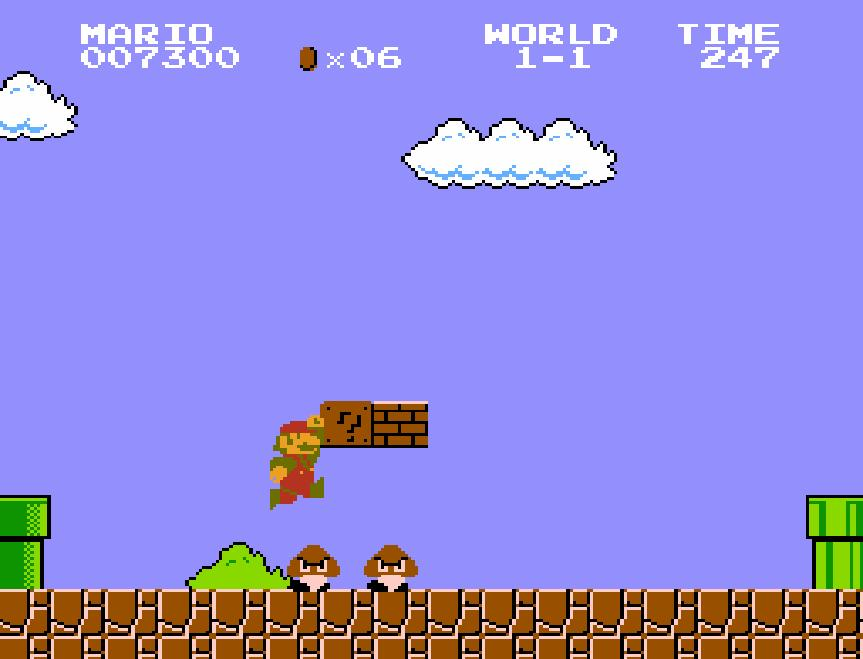big_mario: (267, 414, 325, 512)
